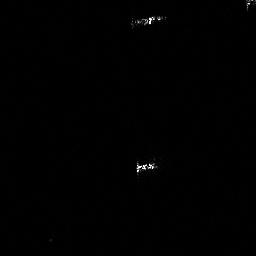ship: (129, 13, 169, 29), (132, 158, 159, 175)
